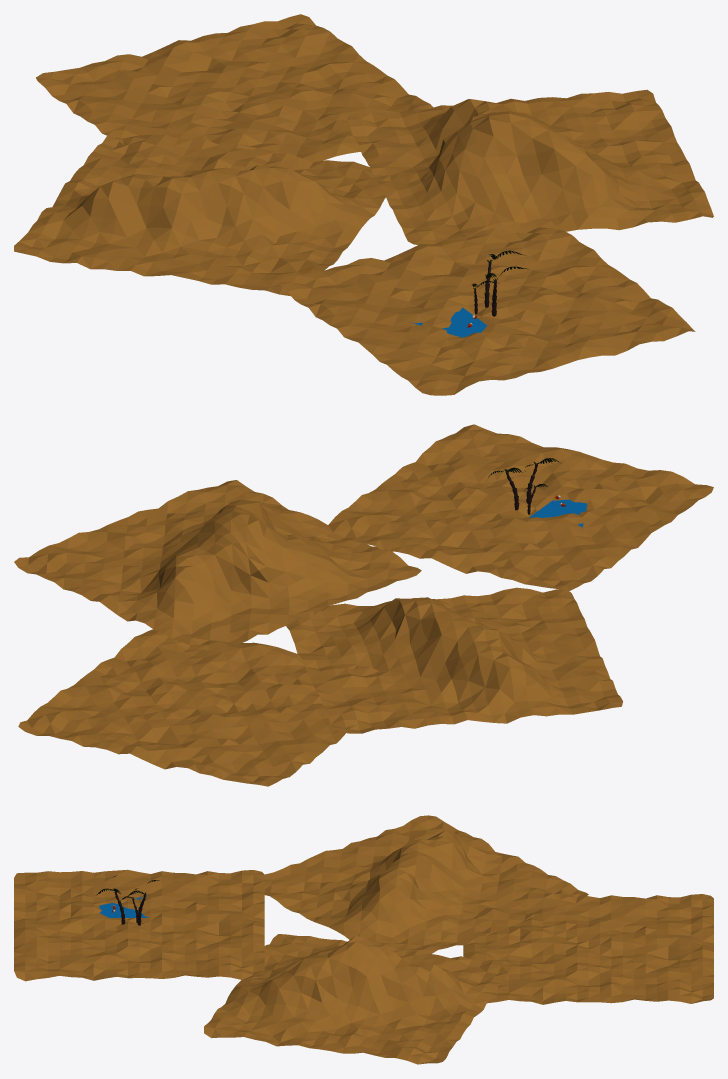
Rendered from Desert.obj.
The picture shows the model from 3 angles, top to bottom: view 1: azimuth 30°, elevation 25°; view 2: azimuth 150°, elevation 25°; view 3: azimuth 270°, elevation 25°; orthographic projection. The views are drawn at different scales.
Parts seen in each view (by area): view 1: Sol.002_Plane.006, Sol.001_Plane.005, Sol_Plane.001, Sol.003_Plane.007, Plane_Plane.004; view 2: Sol.002_Plane.006, Sol.001_Plane.005, Sol_Plane.001, Sol.003_Plane.007, Plane_Plane.004; view 3: Sol.002_Plane.006, Sol_Plane.001, Sol.001_Plane.005, Sol.003_Plane.007, Plane_Plane.004.
Boxes of the visible parts, x1,y1,x2,y2 form: Sol.002_Plane.006: (347,89,713,244); Sol.001_Plane.005: (14,130,390,296); Sol_Plane.001: (278,218,695,395); Sol.003_Plane.007: (36,14,433,161); Plane_Plane.004: (408,307,486,337); Sol.002_Plane.006: (14,480,421,650); Sol.001_Plane.005: (286,587,622,733); Sol_Plane.001: (320,424,713,590); Sol.003_Plane.007: (18,629,378,786); Plane_Plane.004: (529,499,587,528); Sol.002_Plane.006: (204,934,511,1064); Sol_Plane.001: (14,869,264,981); Sol.001_Plane.005: (264,815,588,955); Sol.003_Plane.007: (463,894,713,1004); Plane_Plane.004: (99,895,148,917).
Size of the model in its own units: 48.04 by 5.32 by 56.96.
